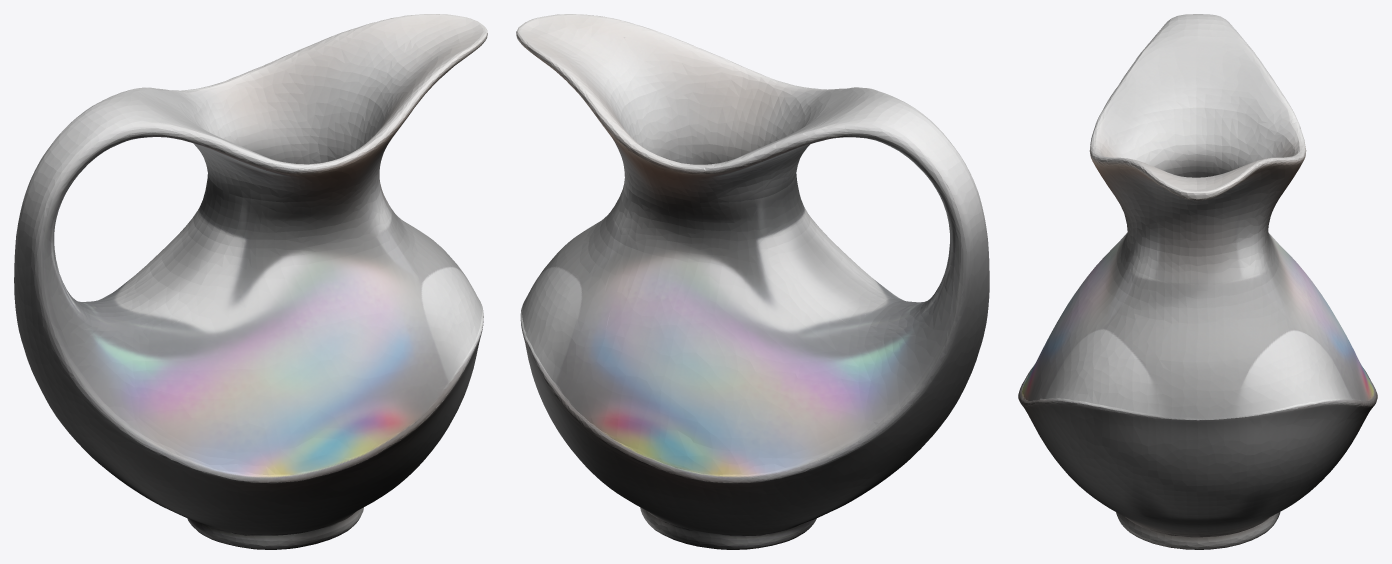
The model's file is porcelain-pitcher-futuristic.jpeg.glb.
The picture shows the model from 3 angles, left to right: view 1: azimuth 30°, elevation 25°; view 2: azimuth 150°, elevation 25°; view 3: azimuth 270°, elevation 25°; orthographic projection. The views are drawn at different scales.
Parts seen in each view (by area): view 1: world; view 2: world; view 3: world.
Part boxes in pixels (x1,y1,x2,y2): world: (14,14,487,549); world: (516,14,989,549); world: (1018,14,1377,549).
Bounding box in the file's own units: 1 × 0.9258 × 0.712.
Materials: 1 (1 with a texture image).
